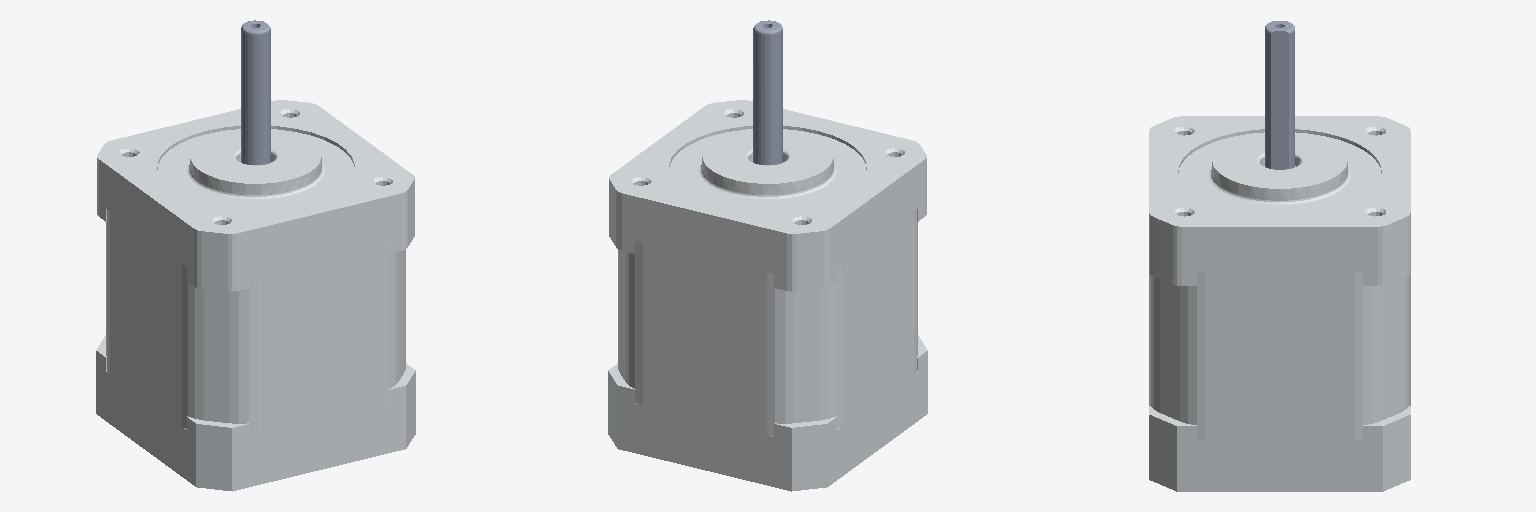
robot.urdf — stepmotor2:
<robot
  name="stepmotor2">
  <link
    name="motorbase">
    <inertial>
      <origin
        xyz="-0.000859097170120963 -0.000341800187754871 -0.000199540178000858"
        rpy="0 0 0" />
      <mass
        value="0.302591270427399" />
      <inertia
        ixx="0.000100341980135441"
        ixy="3.60191920327096E-21"
        ixz="-1.10245493485852E-21"
        iyy="0.000100341980135441"
        iyz="-3.86852414319975E-21"
        izz="8.61288345178524E-05" />
    </inertial>
    <visual>
      <origin
        xyz="0 0 0"
        rpy="0 0 0" />
      <geometry>
        <mesh
          filename="package://stepmotor2/meshes/motorbase.STL" />
      </geometry>
      <material
        name="">
        <color
          rgba="0.898039215686275 0.917647058823529 0.929411764705882 1" />
      </material>
    </visual>
    <collision>
      <origin
        xyz="0 0 0"
        rpy="0 0 0" />
      <geometry>
        <mesh
          filename="package://stepmotor2/meshes/motorbase.STL" />
      </geometry>
    </collision>
  </link>
  <link
    name="shaft">
    <inertial>
      <origin
        xyz="-0.000861121867187112 -0.000341800191336777 1.53512652504286E-05"
        rpy="0 0 0" />
      <mass
        value="0.308062156488833" />
      <inertia
        ixx="0.000103627977866361"
        ixy="1.71258469548688E-15"
        ixz="8.79384786804845E-09"
        iyy="0.000103626729122263"
        iyz="-7.36451864960641E-14"
        izz="8.63155149084997E-05" />
    </inertial>
    <visual>
      <origin
        xyz="0 0 0"
        rpy="0 0 0" />
      <geometry>
        <mesh
          filename="package://stepmotor2/meshes/shaft.STL" />
      </geometry>
      <material
        name="">
        <color
          rgba="0.666666666666667 0.698039215686274 0.768627450980392 1" />
      </material>
    </visual>
    <collision>
      <origin
        xyz="0 0 0"
        rpy="0 0 0" />
      <geometry>
        <mesh
          filename="package://stepmotor2/meshes/shaft.STL" />
      </geometry>
    </collision>
  </link>
  <joint
    name="motorjoint"
    type="revolute">
    <origin
      xyz="0 0 0"
      rpy="0 0 0" />
    <parent
      link="motorbase" />
    <child
      link="shaft" />
    <axis
      xyz="0 0 1" />
  </joint>
</robot>

--- Render facts (derived) ---
The picture shows the robot from 3 angles, left to right: view 1: azimuth 30°, elevation 25°; view 2: azimuth 150°, elevation 25°; view 3: azimuth 270°, elevation 25°; orthographic projection.
Model stepmotor2 with 2 links and 1 joints (1 revolute), rooted at motorbase, posed every joint at zero.
Visible links, largest first — view 1: motorbase, shaft; view 2: motorbase, shaft; view 3: motorbase, shaft.
Link boxes in pixels (x1=…): motorbase: x1=96, y1=100, x2=415, y2=491; shaft: x1=241, y1=20, x2=270, y2=164; motorbase: x1=608, y1=100, x2=927, y2=491; shaft: x1=753, y1=20, x2=782, y2=164; motorbase: x1=1149, y1=116, x2=1410, y2=491; shaft: x1=1265, y1=21, x2=1294, y2=169.
Size in the robot's own frame: 0.0423 by 0.0423 by 0.0733 metres.
Meshes: 2 distinct files referenced, 2 mesh visuals loaded (2 binary STL).